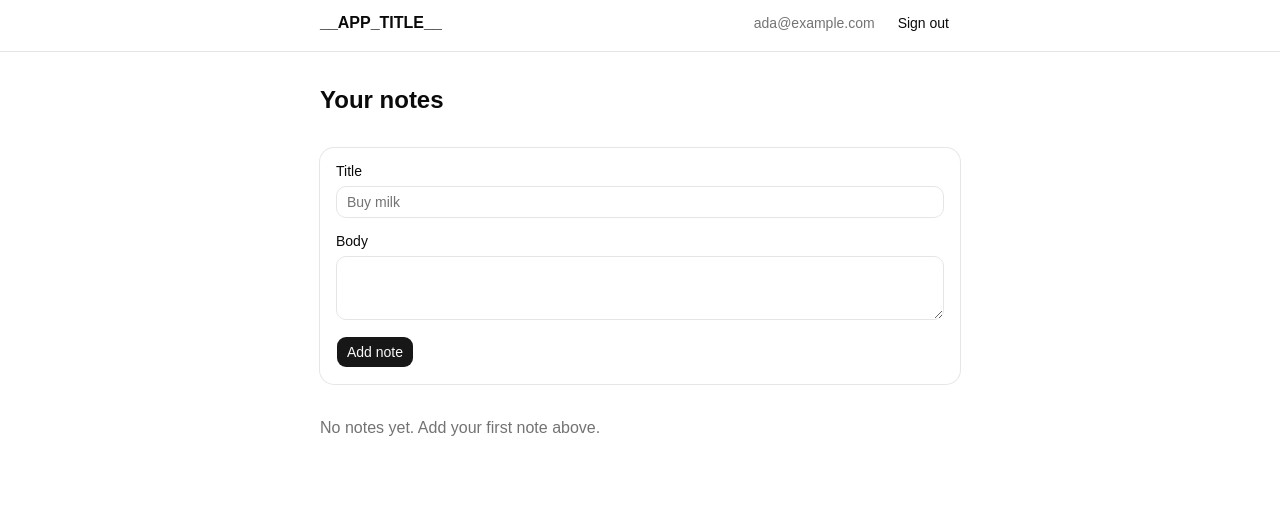
Test: notes page (list + create against the API) › keeps the form content and explains when saving fails
Expected: the text "No notes yet. Add your first note above." is shown, [320,419,600,436]
Type "Call Ada" into the field labelled "Title".
click(640, 202); type("Call Ada")  # box [336,186,944,218]
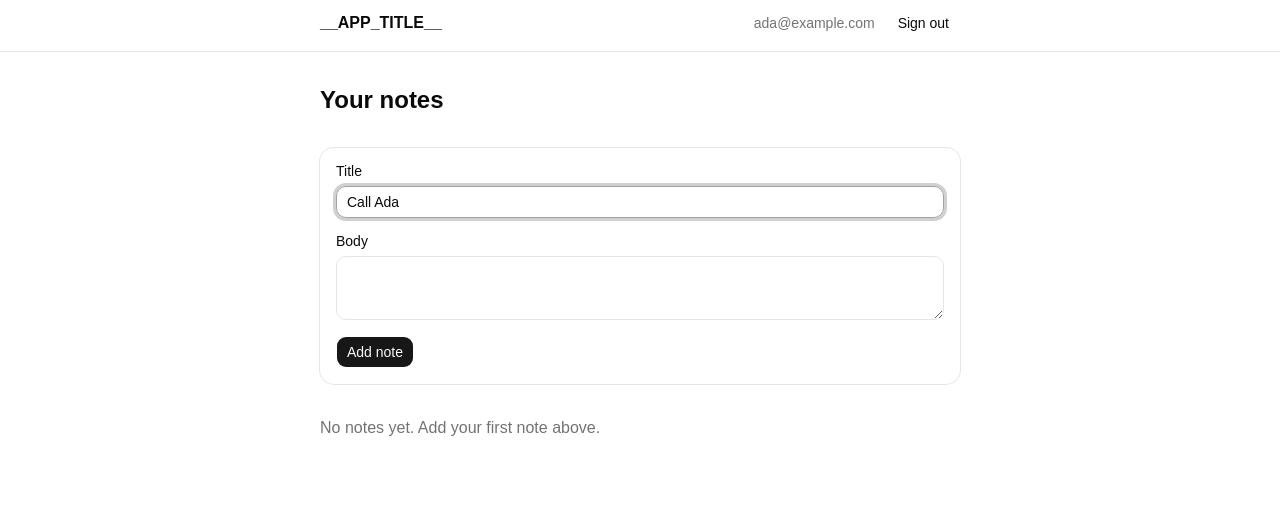
Click the button "Add note".
click(375, 352)  # box [336,336,414,368]
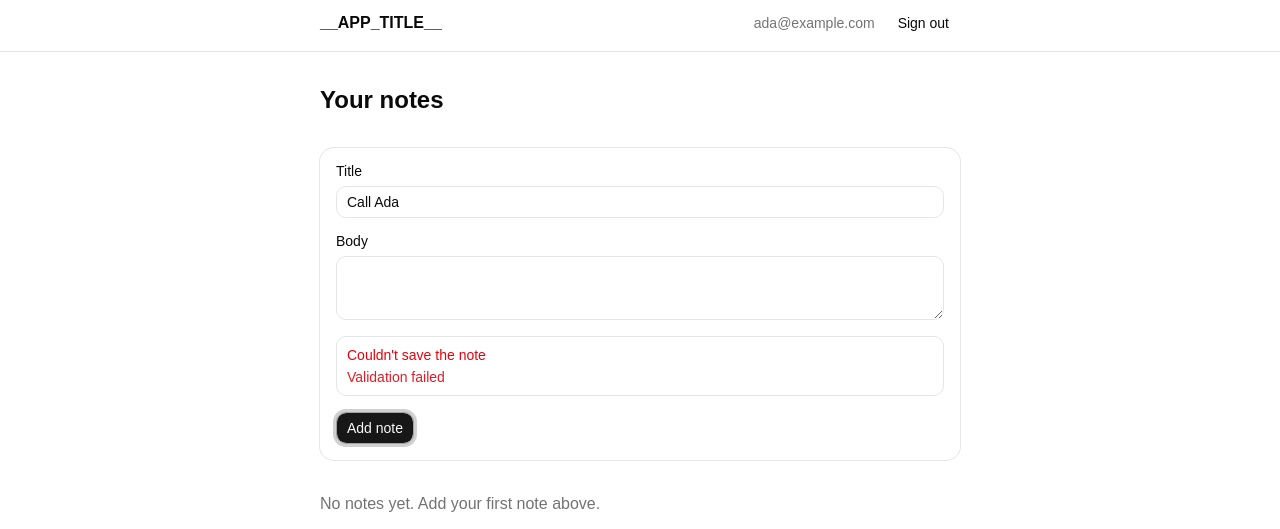
Expected: the text "Couldn't save the note" is shown, [347,347,486,363]
